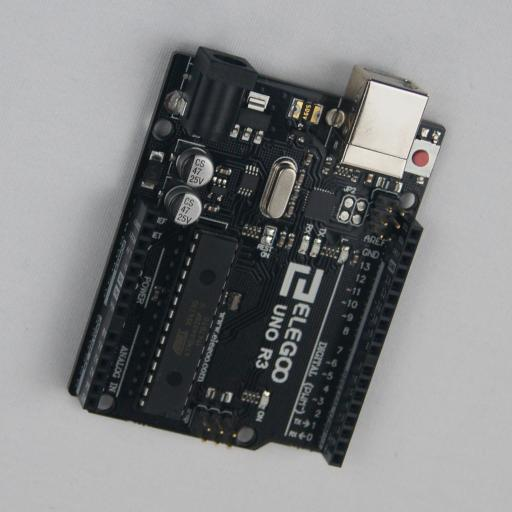Arduino Uno -Black-: (67, 46, 446, 467)
